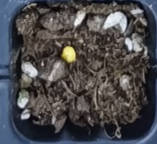pepper seed: (23, 14, 100, 78)
